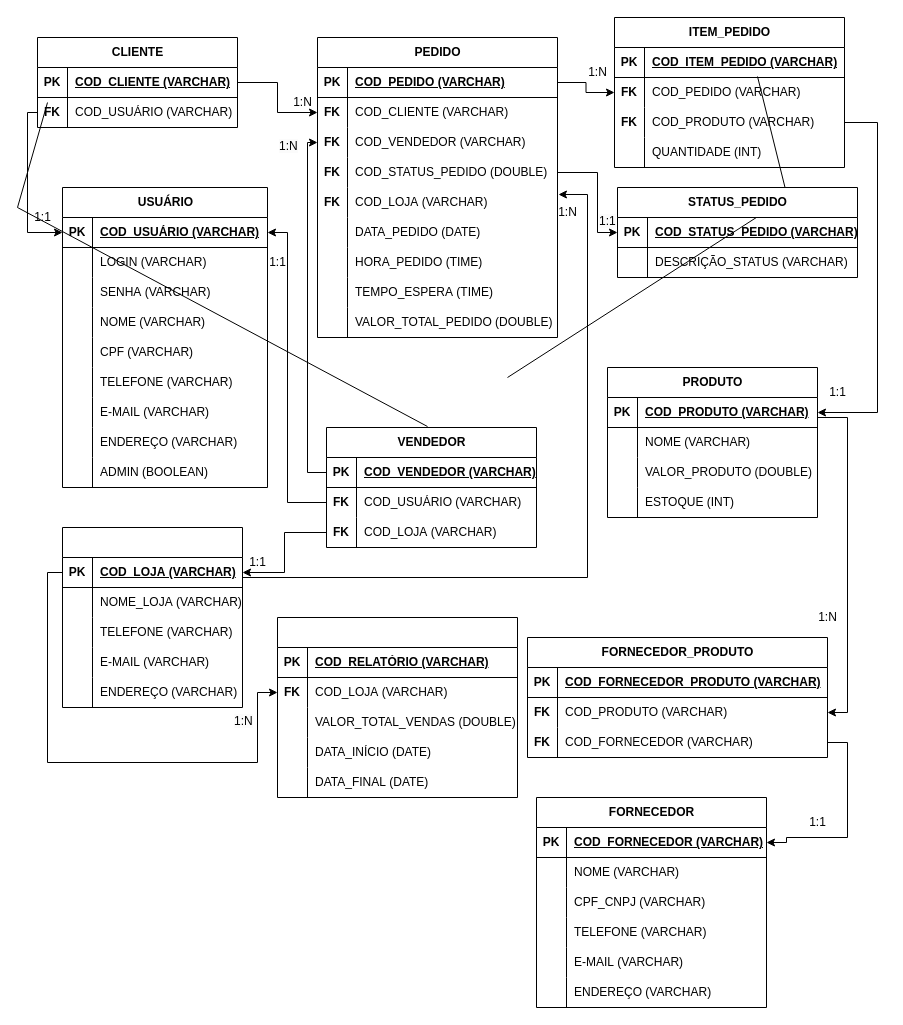
The diagram is 903 pixels wide and 1025 high, and some of its shapes have lost their labels. Each missing label, with the box of its shape:
LOJA_FÍSICA: (62, 526, 242, 708)
RELATÓRIO_VENDAS: (276, 616, 518, 798)
